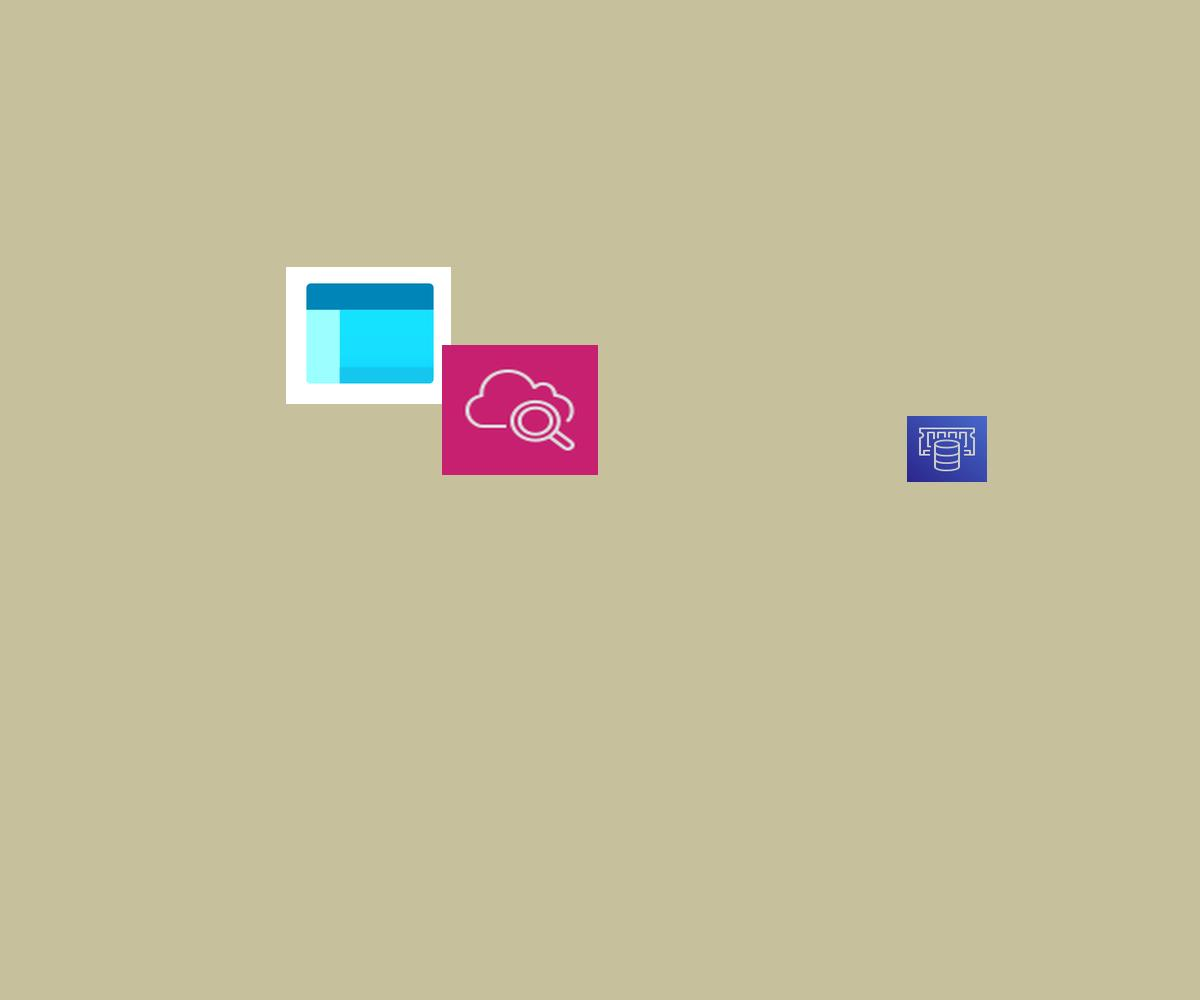AWS-CloudWatch: (442, 345, 598, 475)
AWS-ElastiCache: (907, 416, 987, 482)
Azure_management-portal: (286, 267, 451, 404)
